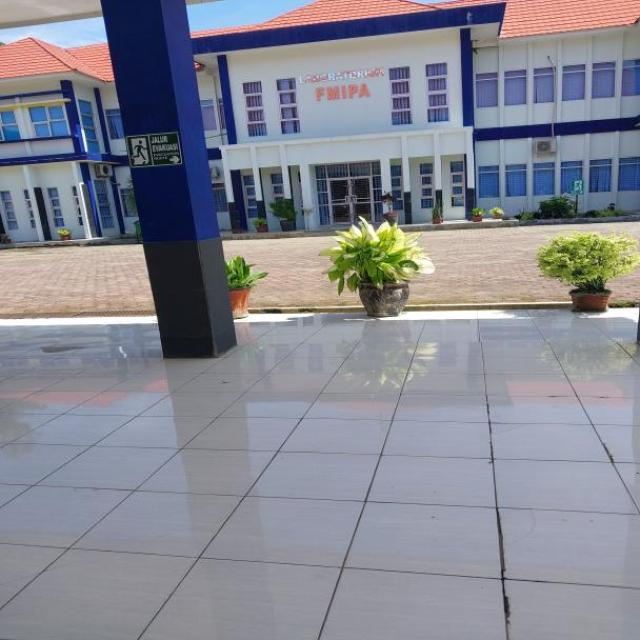plant ahead at: (320, 213, 430, 319), (532, 232, 640, 318)
